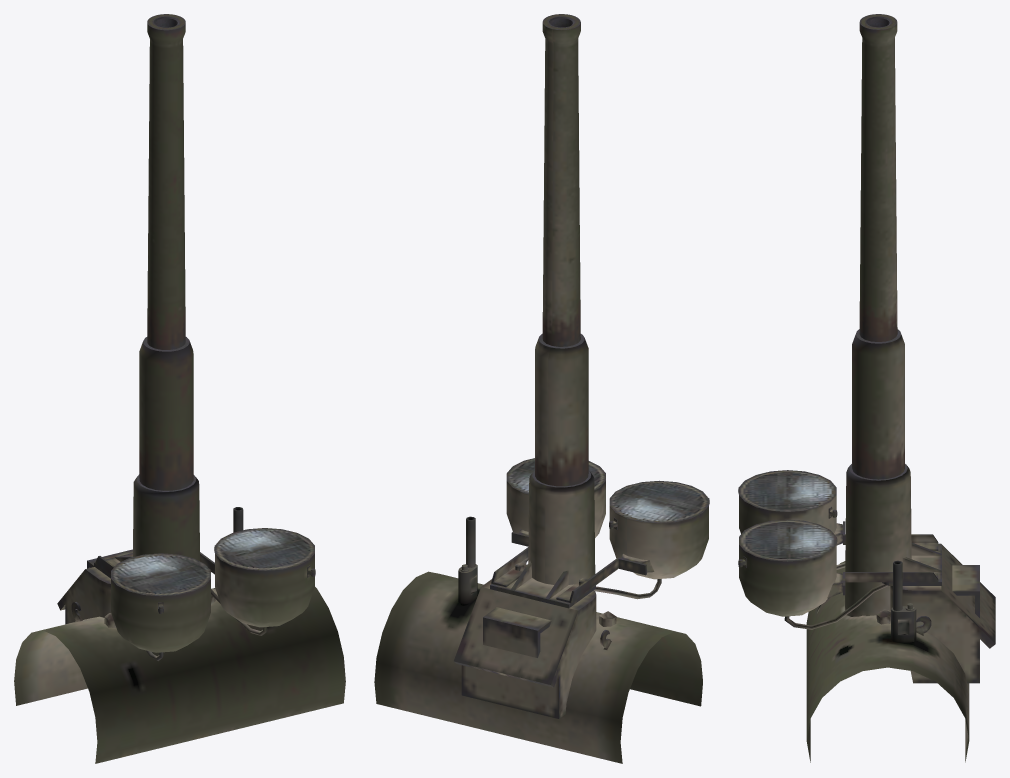
File: Gun_04.glb
3 renders of one model, left to right at view 1: azimuth 30°, elevation 25°; view 2: azimuth 150°, elevation 25°; view 3: azimuth 270°, elevation 25°, orthographic. The views are drawn at different scales.
Parts seen in each view (by area): view 1: set_0_group_0; view 2: set_0_group_0; view 3: set_0_group_0.
Boxes of the visible parts, x1,y1,x2,y2 form: set_0_group_0: (14,14,345,763); set_0_group_0: (374,14,709,763); set_0_group_0: (738,14,995,762).
Size of the model in its own units: 0.5646 by 1.5 by 0.519.
1 material, 1 textured.
